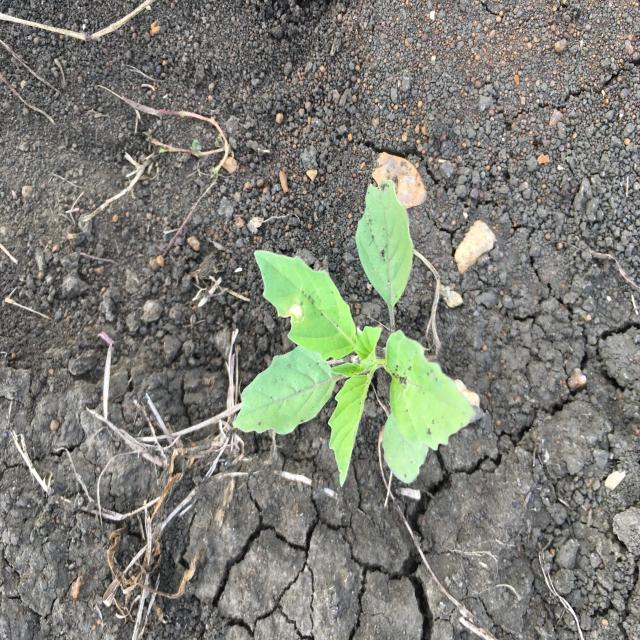CutleafGroundcherry: (230, 175, 489, 492)
